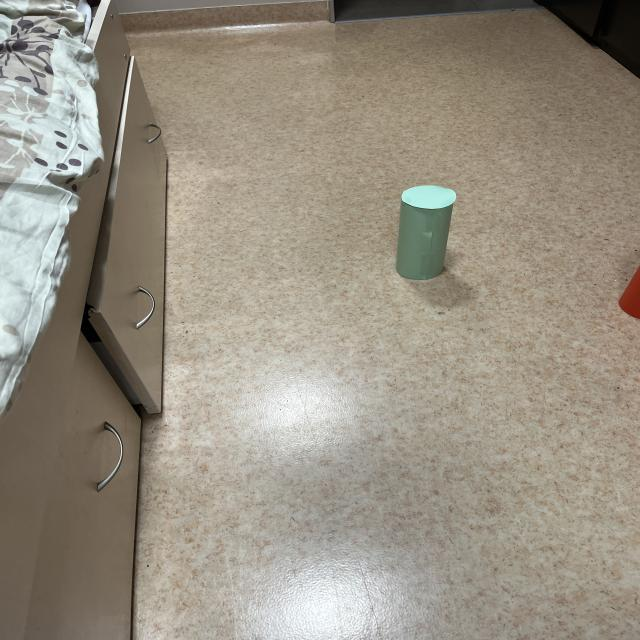meta: (396, 186, 456, 280)
